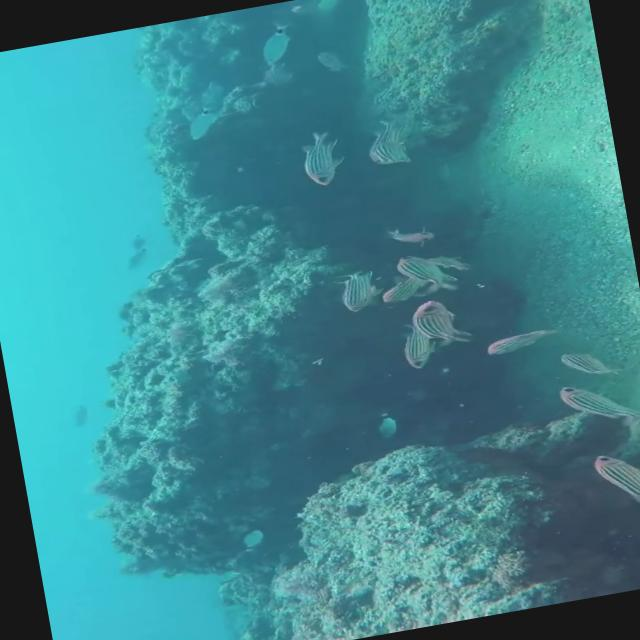Asker Baligi: (535, 367, 640, 438), (588, 438, 640, 516), (288, 127, 354, 187), (408, 298, 458, 352)
